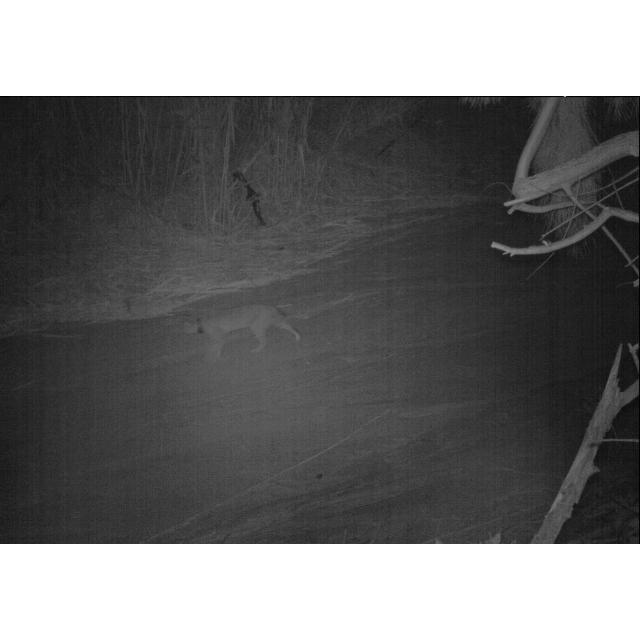animals: (180, 302, 306, 360)
